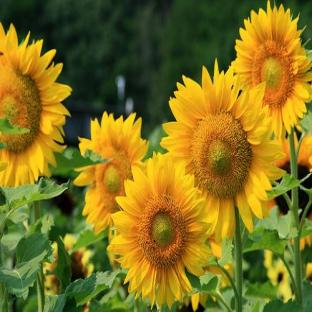sunflower: (107, 149, 219, 310)
